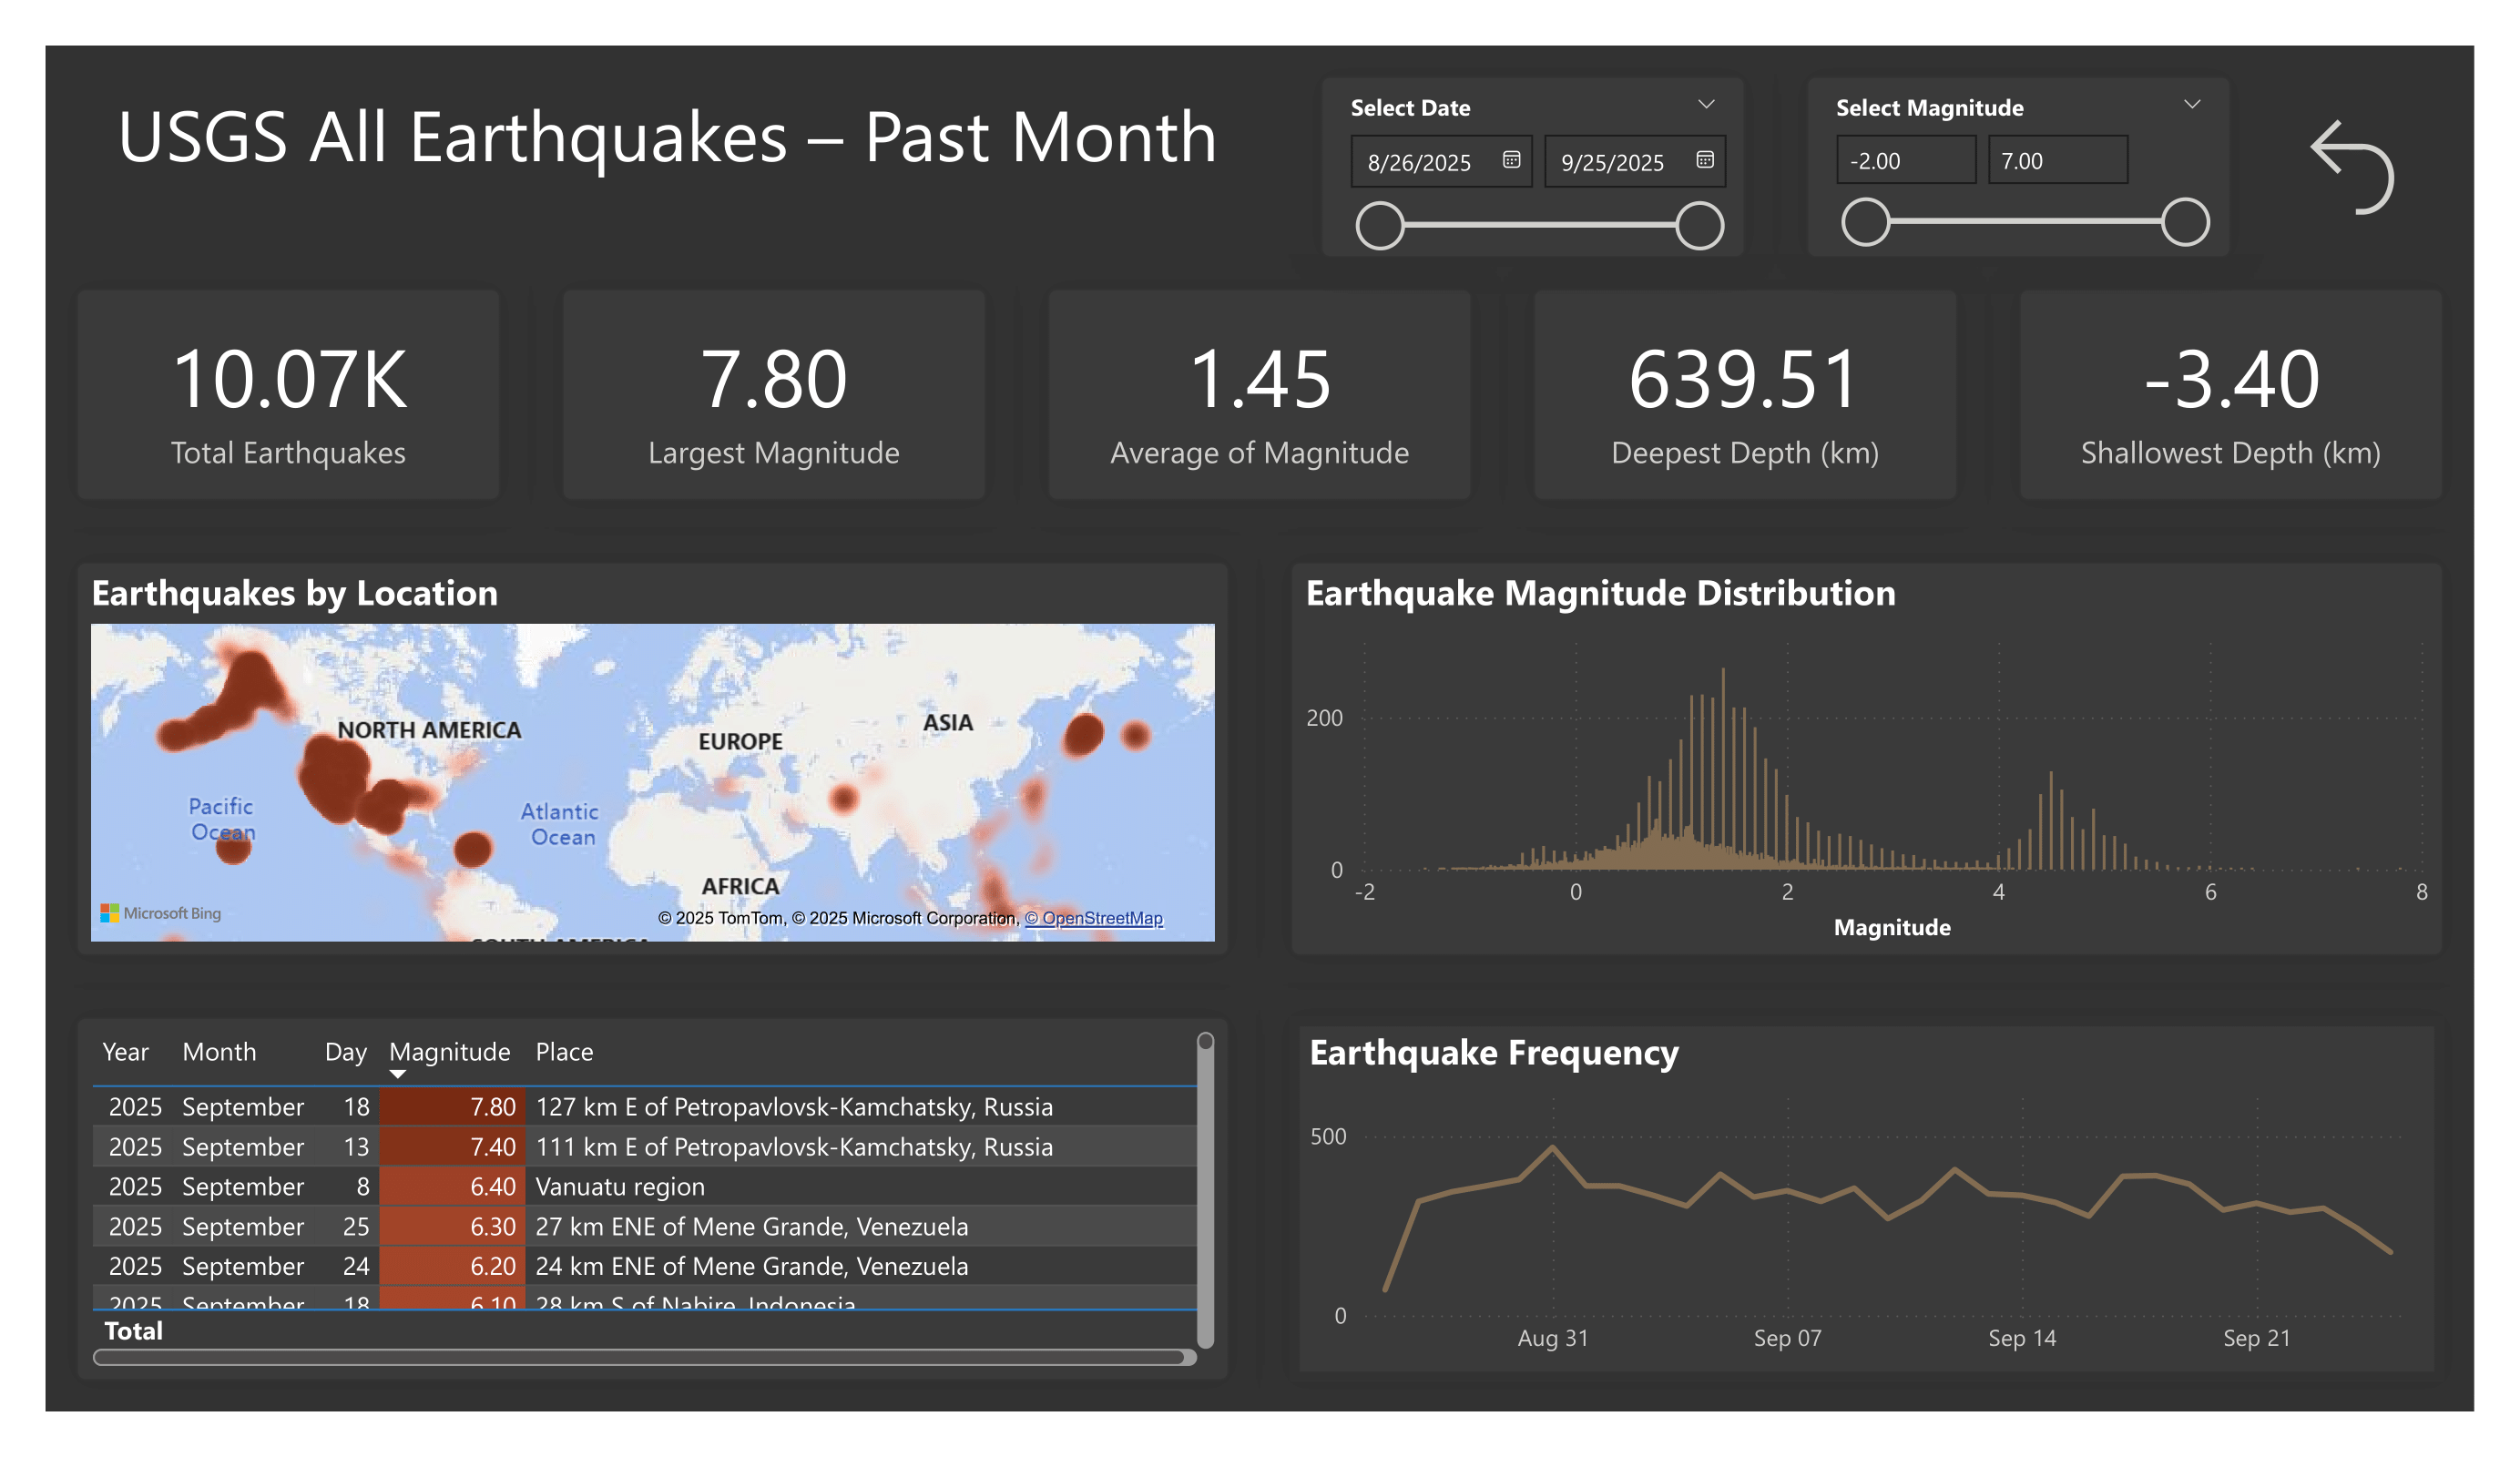

Layout of this report page (visuals, bound fields, positions):
{"tool":"powerbi","page":{"name":"Page 1","canvas":[1280,720],"ordinal":0},"visuals":[{"type":"card","fields":{"Values":["CountNonNull(Last Month's Earthquakes.Date/Time)"]},"box":[16,128,224,112],"z":0},{"type":"card","fields":{"Values":["Max(Last Month's Earthquakes.Magnitude)"]},"box":[272,128,224,112],"z":1000},{"type":"map","title":"Earthquakes by Location","fields":{"Y":["Avg(Last Month's Earthquakes.Latitude)"],"X":["Avg(Last Month's Earthquakes.Longitude)"],"Size":["CountNonNull(Last Month's Earthquakes.Magnitude)"]},"box":[16,272,608,208],"z":2000},{"type":"lineChart","title":"Earthquake Frequency","fields":{"Category":["Last Month's Earthquakes.Date/Time.Variation.Date Hierarchy.Year","Last Month's Earthquakes.Date/Time.Variation.Date Hierarchy.Quarter","Last Month's Earthquakes.Date/Time.Variation.Date Hierarchy.Month","Last Month's Earthquakes.Date/Time.Variation.Date Hierarchy.Day"],"Y":["CountNonNull(Last Month's Earthquakes.Place)"]},"box":[656,512,608,192],"z":3000},{"type":"card","fields":{"Values":["Min(Last Month's Earthquakes.Depth (km))"]},"box":[1040,128,224,112],"z":4000},{"type":"card","fields":{"Values":["Max(Last Month's Earthquakes.Depth (km))"]},"box":[784,128,224,112],"z":5000},{"type":"tableEx","fields":{"Values":["Last Month's Earthquakes.Date/Time.Variation.Date Hierarchy.Year","Last Month's Earthquakes.Date/Time.Variation.Date Hierarchy.Month","Last Month's Earthquakes.Date/Time.Variation.Date Hierarchy.Day","Sum(Last Month's Earthquakes.Magnitude)","Last Month's Earthquakes.Place"]},"box":[16,512,608,192],"z":6000},{"type":"columnChart","title":"Earthquake Magnitude Distribution ","fields":{"Category":["Last Month's Earthquakes.Magnitude"],"Y":["CountNonNull(Last Month's Earthquakes.Place)"]},"box":[656,272,608,208],"z":7000},{"type":"textbox","box":[16,16,624,96],"z":8000},{"type":"card","fields":{"Values":["Avg(USGS Earthquakes (Past Month).Magnitude)"]},"box":[528,128,224,112],"z":9000},{"type":"slicer","fields":{"Values":["USGS Earthquakes (Past Month).Month/Day"]},"box":[672,16,224,96],"z":10000},{"type":"slicer","fields":{"Values":["USGS Earthquakes (Past Month).Magnitude (bins)"]},"box":[928,16,224,96],"z":11000},{"type":"actionButton","box":[1184,32,64,64],"z":12000}]}

Visuals, with their boxes in screenshot pixels (x1, y1, x2, y2):
card - CountNonNull(Last Month's Earthquakes.Date/Time): {"left": 76, "top": 289, "right": 501, "bottom": 501}
card - Max(Last Month's Earthquakes.Magnitude): {"left": 562, "top": 289, "right": 986, "bottom": 501}
"Earthquakes by Location" map: {"left": 76, "top": 562, "right": 1229, "bottom": 956}
"Earthquake Frequency" lineChart: {"left": 1291, "top": 1017, "right": 2444, "bottom": 1381}
card - Min(Last Month's Earthquakes.Depth (km)): {"left": 2019, "top": 289, "right": 2444, "bottom": 501}
card - Max(Last Month's Earthquakes.Depth (km)): {"left": 1534, "top": 289, "right": 1958, "bottom": 501}
tableEx - Last Month's Earthquakes.Date/Time.Variation.Date Hierarchy.Year x Last Month's Earthquakes.Date/Time.Variation.Date Hierarchy.Month: {"left": 76, "top": 1017, "right": 1229, "bottom": 1381}
"Earthquake Magnitude Distribution " columnChart: {"left": 1291, "top": 562, "right": 2444, "bottom": 956}
textbox: {"left": 76, "top": 76, "right": 1260, "bottom": 258}
card - Avg(USGS Earthquakes (Past Month).Magnitude): {"left": 1047, "top": 289, "right": 1473, "bottom": 501}
slicer - USGS Earthquakes (Past Month).Month/Day: {"left": 1321, "top": 76, "right": 1746, "bottom": 258}
slicer - USGS Earthquakes (Past Month).Magnitude (bins): {"left": 1807, "top": 76, "right": 2231, "bottom": 258}
actionButton: {"left": 2292, "top": 107, "right": 2413, "bottom": 228}
